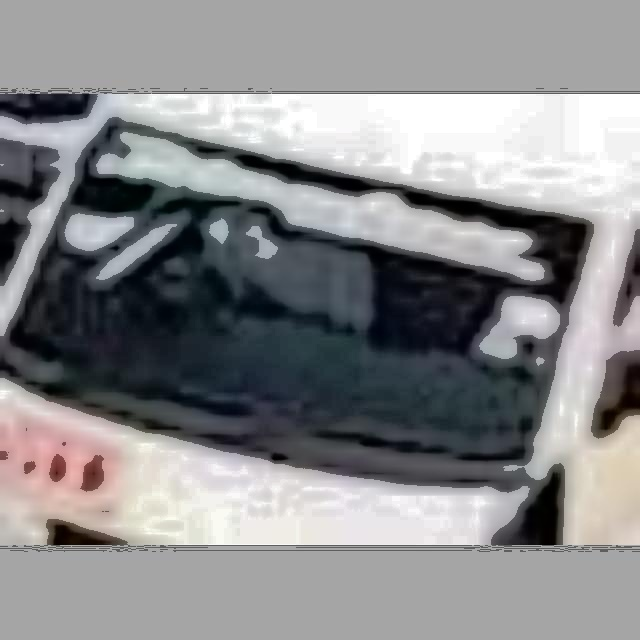tidak-pakai: (188, 207, 361, 365)
